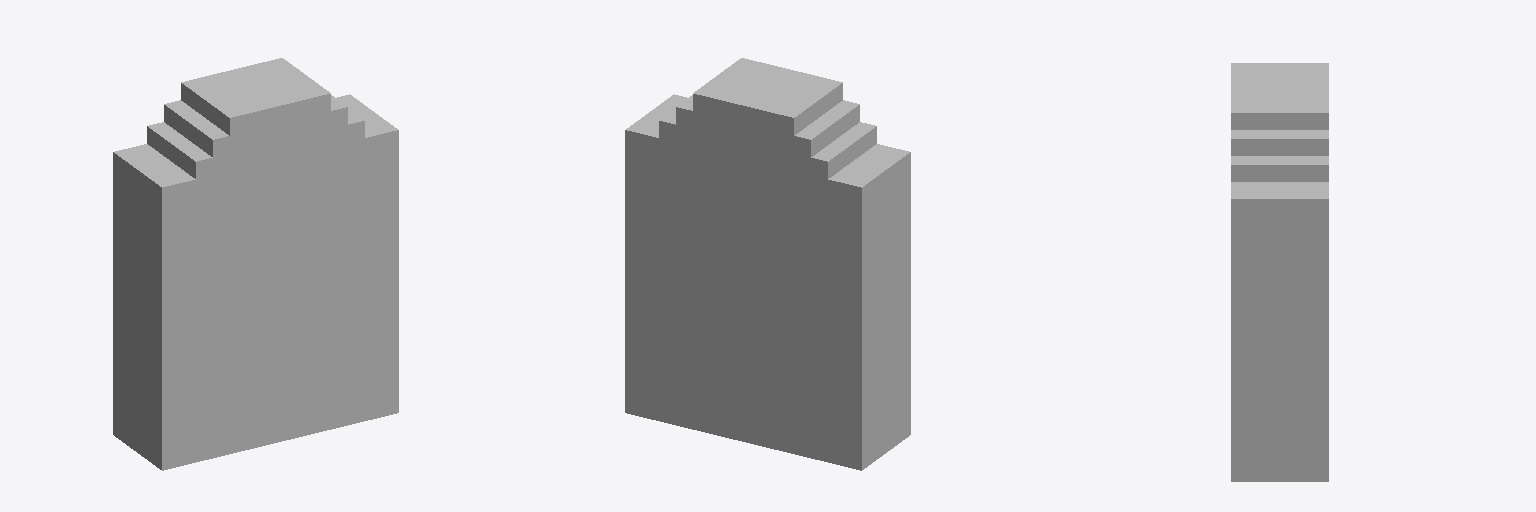
The model's file is a different.obj.
3 renders of one model, left to right at view 1: azimuth 30°, elevation 25°; view 2: azimuth 150°, elevation 25°; view 3: azimuth 270°, elevation 25°, orthographic.
Visible parts, largest first — view 1: object 1; view 2: object 1; view 3: object 1.
Boxes of the visible parts, <box> form: object 1: <box>113,58,398,470</box>; object 1: <box>625,58,910,470</box>; object 1: <box>1231,63,1328,481</box>.
Size of the model in its own units: 1.4 by 1.9 by 0.5.